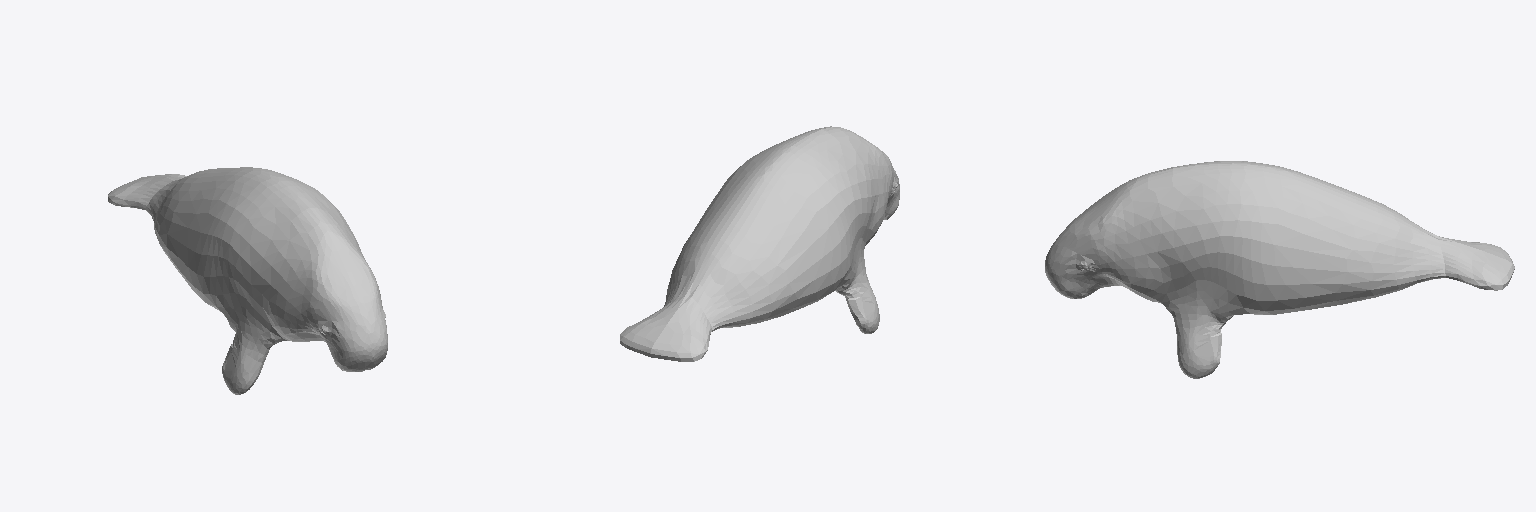
The model's file is MANATEE2.OBJ.
3 renders of one model, left to right at view 1: azimuth 30°, elevation 25°; view 2: azimuth 150°, elevation 25°; view 3: azimuth 270°, elevation 25°, orthographic.
Visible parts, largest first — view 1: mt2_body; view 2: mt2_body; view 3: mt2_body.
Boxes of the visible parts, x1,y1,x2,y2 form: mt2_body: [108, 167, 387, 394]; mt2_body: [620, 126, 899, 361]; mt2_body: [1045, 161, 1514, 378].
Bounding box in the file's own units: 0.4588 × 0.5993 × 1.38.